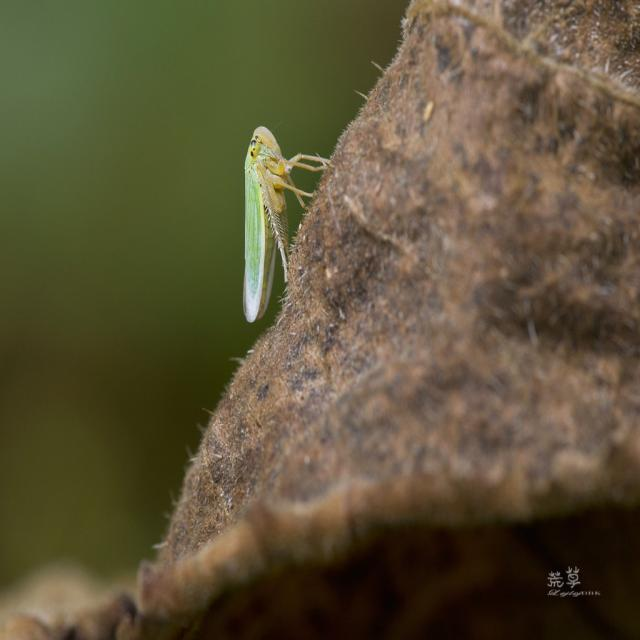Yechan: (227, 108, 310, 327)
